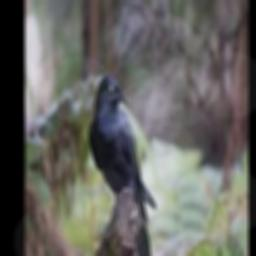Crow: (87, 75, 156, 222)
